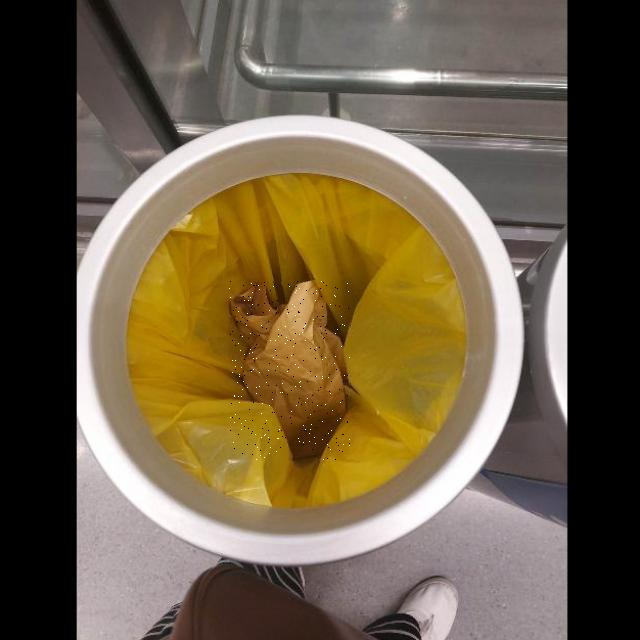paper: (230, 281, 350, 461)
